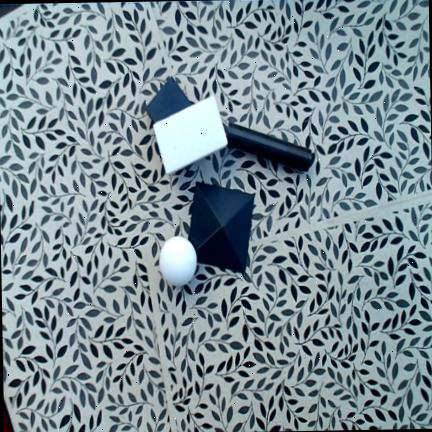Cilindro: (226, 122, 312, 171)
Esfera: (159, 236, 196, 285)
Paralelepipedo: (152, 95, 228, 174), (145, 76, 193, 122)
Piramide: (187, 182, 254, 272)
